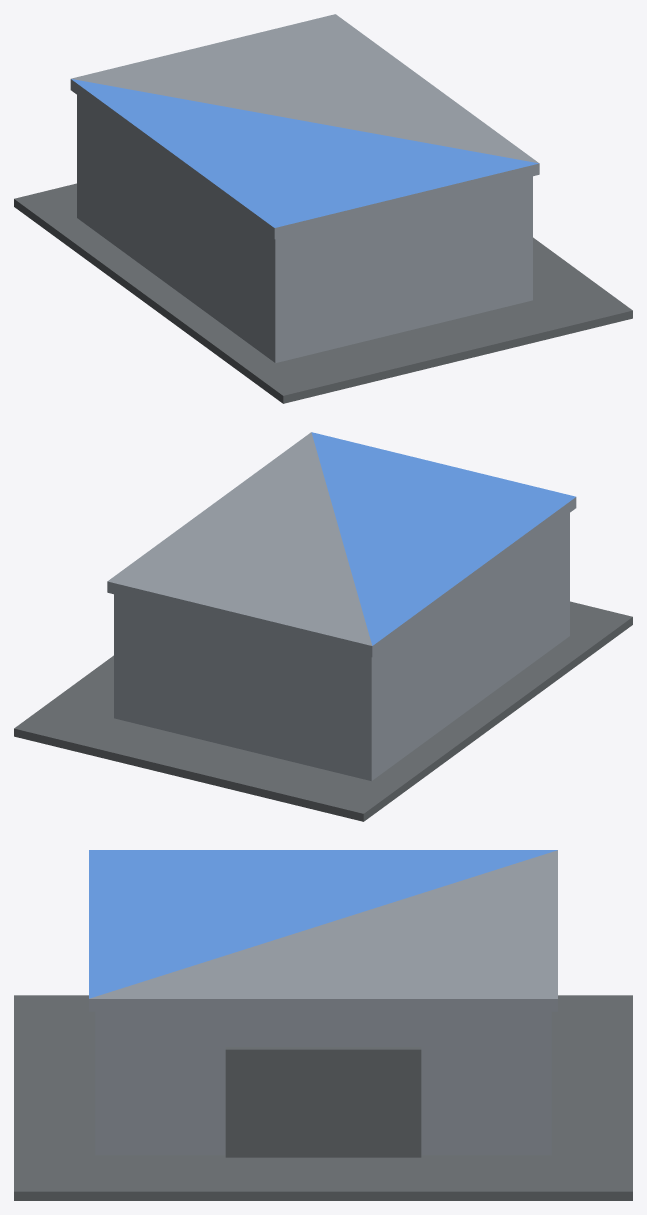
Rendered from veyran_vehicle_factory.glb.
3 views of the same model, one above another, from view 1: azimuth 30°, elevation 25°; view 2: azimuth 150°, elevation 25°; view 3: azimuth 270°, elevation 25° (orthographic). The views are drawn at different scales.
Parts seen in each view (by area): view 1: hull; view 2: hull; view 3: hull, door.
Boxes of the visible parts, x1,y1,x2,y2 form: hull: (14,14,632,403); hull: (14,432,632,821); hull: (14,850,632,1200); door: (225,1047,421,1157).
Size of the model in its own units: 11.4 by 4.55 by 15.2.
